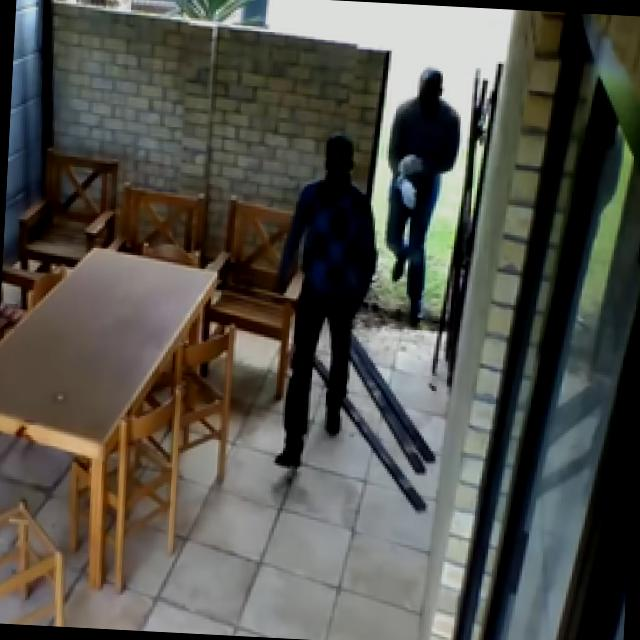person: (264, 133, 382, 475), (378, 66, 463, 329)
